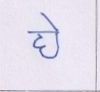o_matra: (45, 16, 64, 60)
